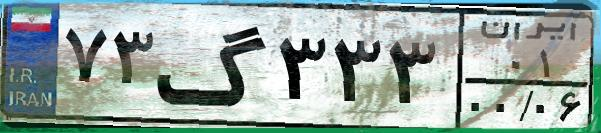0: (508, 27, 537, 80), (470, 70, 495, 125), (495, 70, 520, 125), (535, 70, 560, 125)
1: (537, 27, 568, 80)
3: (270, 28, 330, 110), (385, 28, 445, 110), (330, 28, 385, 110), (110, 28, 156, 98)
6: (560, 70, 590, 125)
7: (57, 26, 110, 100)
گ: (156, 12, 270, 120)
